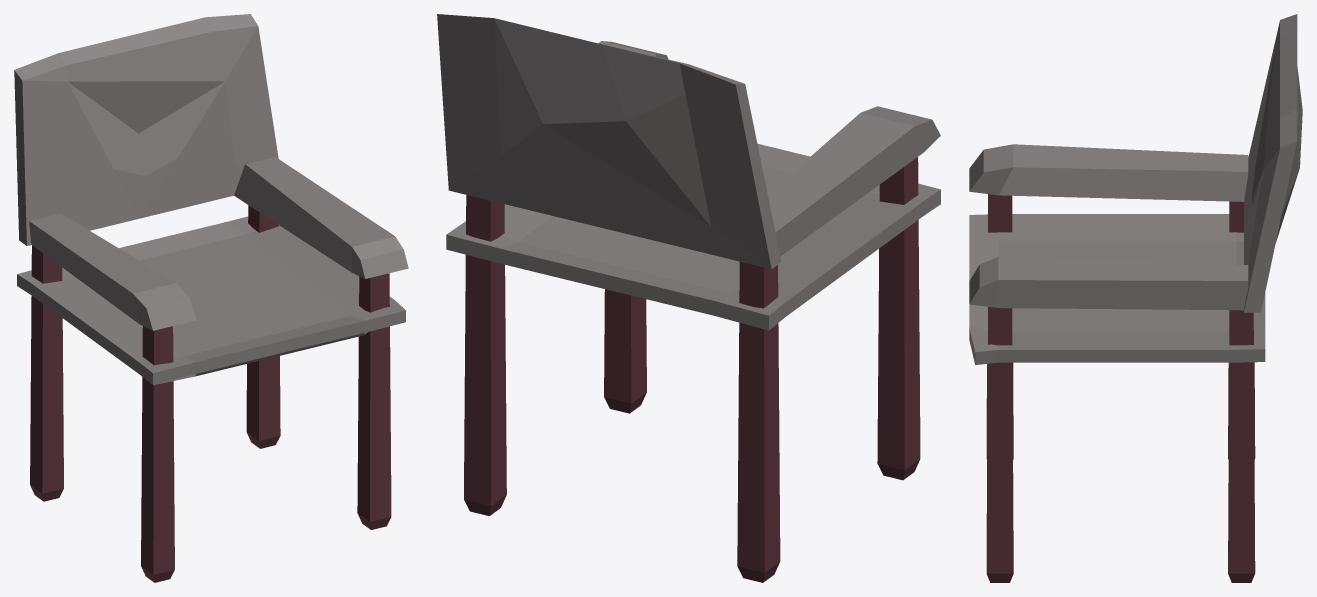
Rendered from chair-outdoor.fbx.
3 views of the same model, side by side, from view 1: azimuth 30°, elevation 25°; view 2: azimuth 150°, elevation 25°; view 3: azimuth 270°, elevation 25° (orthographic). The views are drawn at different scales.
Parts seen in each view (by area): view 1: chair-outdoor; view 2: chair-outdoor; view 3: chair-outdoor.
Boxes of the visible parts, box(x1,y1,x2,y2) form: chair-outdoor: box(14, 14, 408, 582); chair-outdoor: box(437, 14, 940, 582); chair-outdoor: box(969, 14, 1302, 582).
Size of the model in its own units: 0.6217 by 0.9659 by 0.6452.
